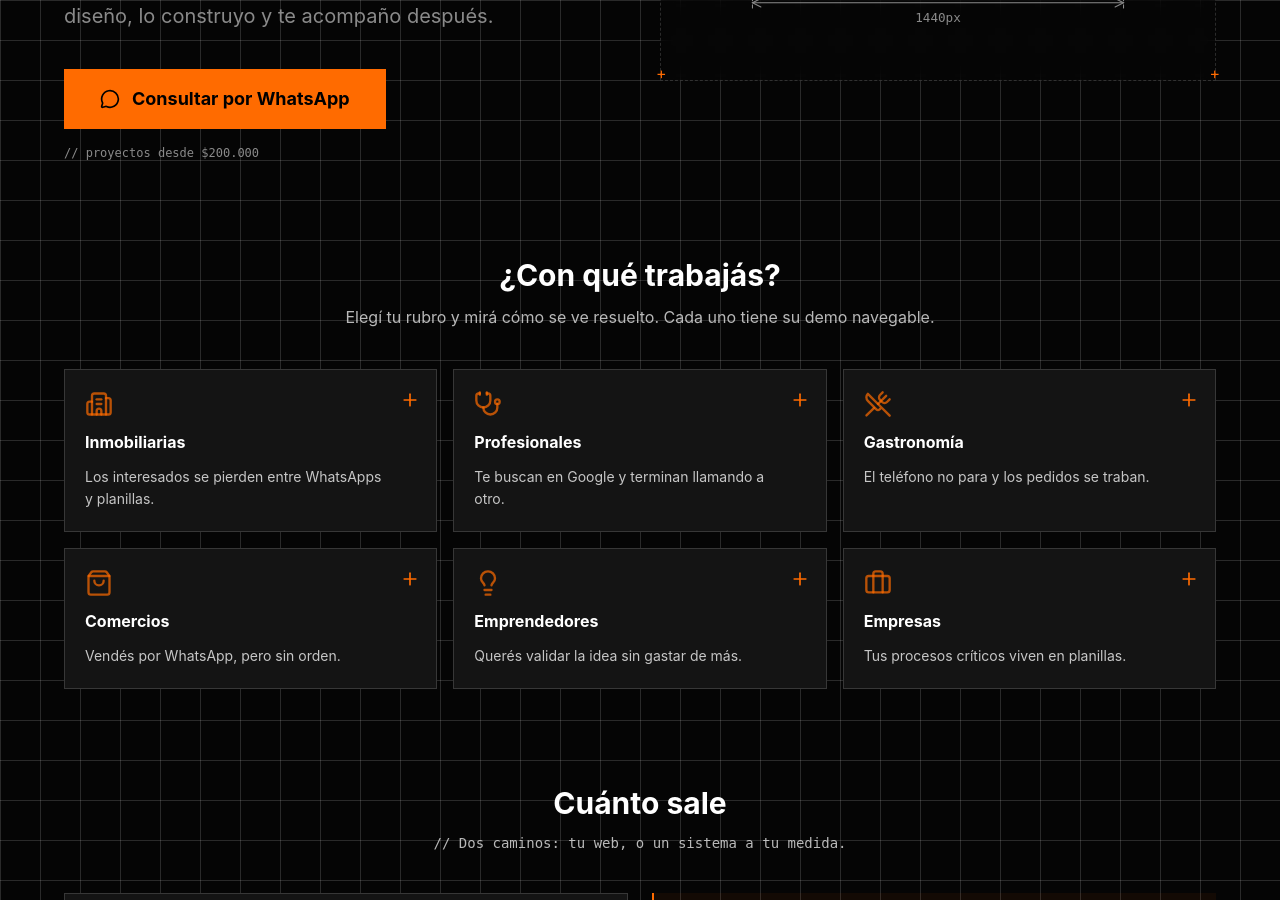
Test: Desarrollo page › expands a segment card via aria-expanded on click
(page scrolled)
Click the button "Inmobiliarias": (135, 442) [65,370,436,531]
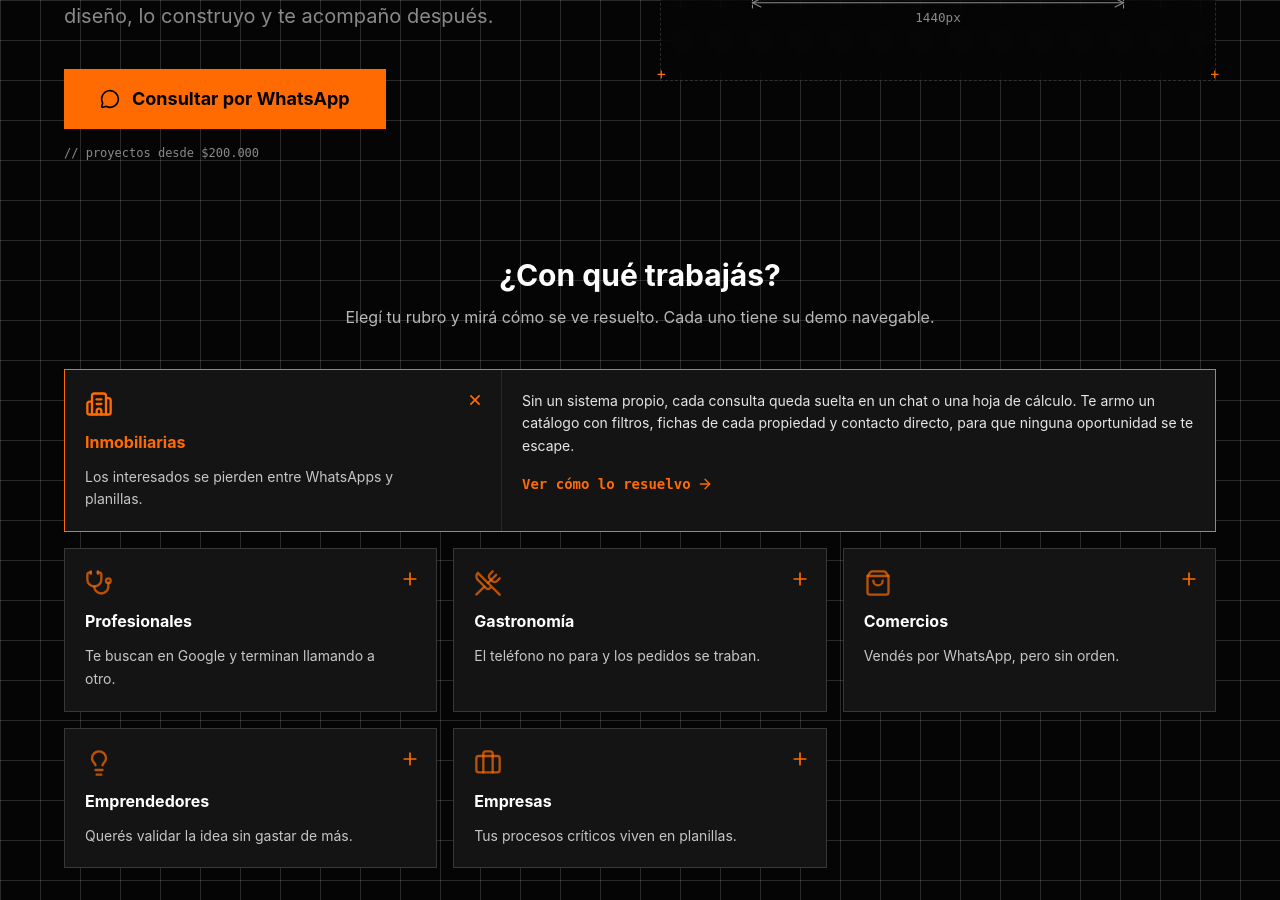
Result: the button "Inmobiliarias" is expanded at [65,370,502,531]
